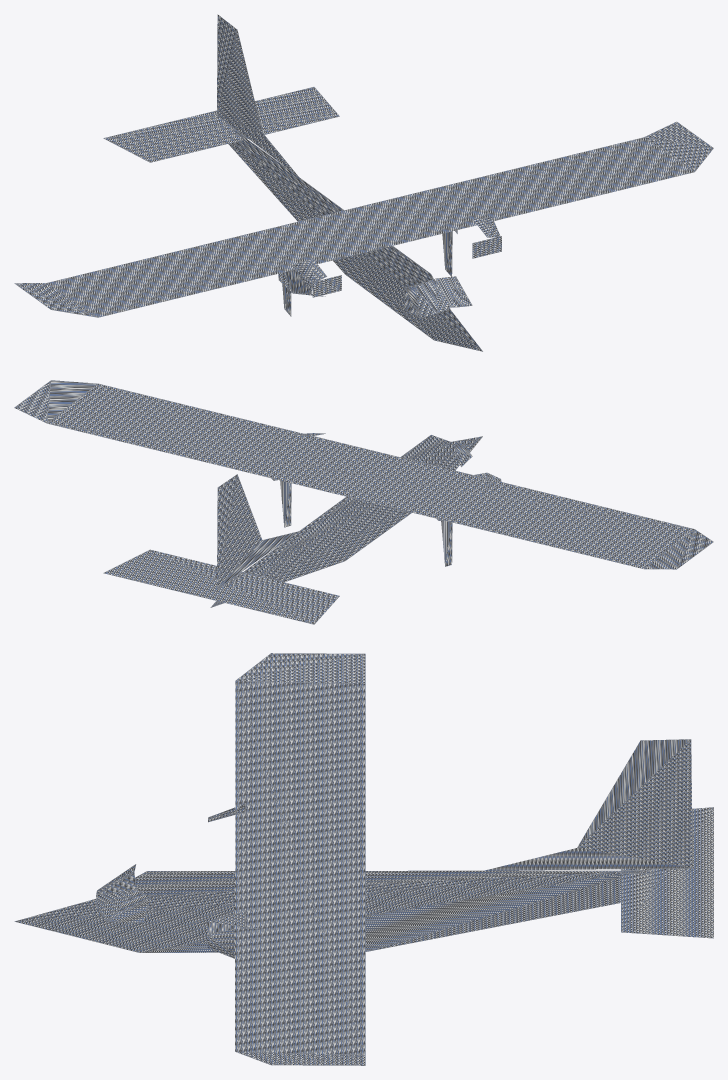
File: HTAI Britten-Norman BN-2 Islander Long Nose MSFS_LOD1.gltf
3 views of the same model, one above another, from view 1: azimuth 30°, elevation 25°; view 2: azimuth 150°, elevation 25°; view 3: azimuth 270°, elevation 25° (orthographic). The views are drawn at different scales.
Visible parts, largest first — view 1: node1; view 2: node1; view 3: node1.
Part boxes in pixels (x1,y1,x2,y2): node1: (14,14,713,351); node1: (14,380,713,624); node1: (14,653,713,1065).
Bounding box in the file's own units: 15.43 × 3.79 × 11.08.
